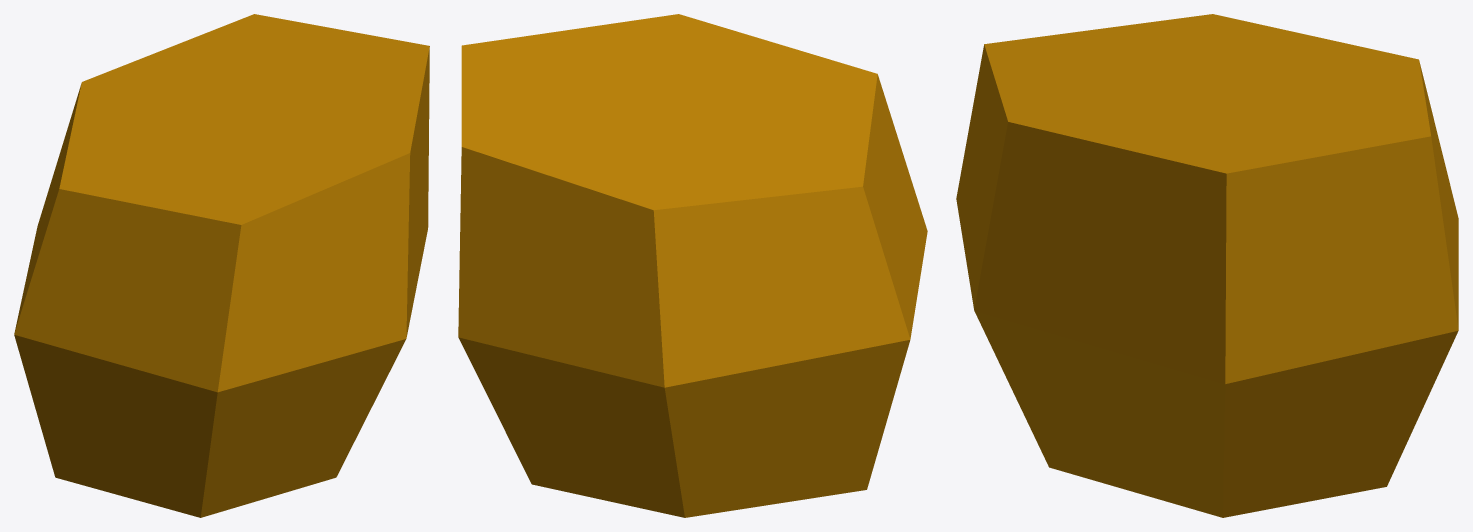
Rendered from Pierre_2_.FBX.
3 renders of one model, left to right at view 1: azimuth 30°, elevation 25°; view 2: azimuth 150°, elevation 25°; view 3: azimuth 270°, elevation 25°, orthographic. The views are drawn at different scales.
Visible parts, largest first — view 1: Cone006; view 2: Cone006; view 3: Cone006.
Boxes of the visible parts, x1=… form: Cone006: x1=14, y1=14, x2=429, y2=517; Cone006: x1=458, y1=14, x2=927, y2=517; Cone006: x1=956, y1=14, x2=1458, y2=517.
Bounding box in the file's own units: 86.5 × 65.61 × 76.53.
